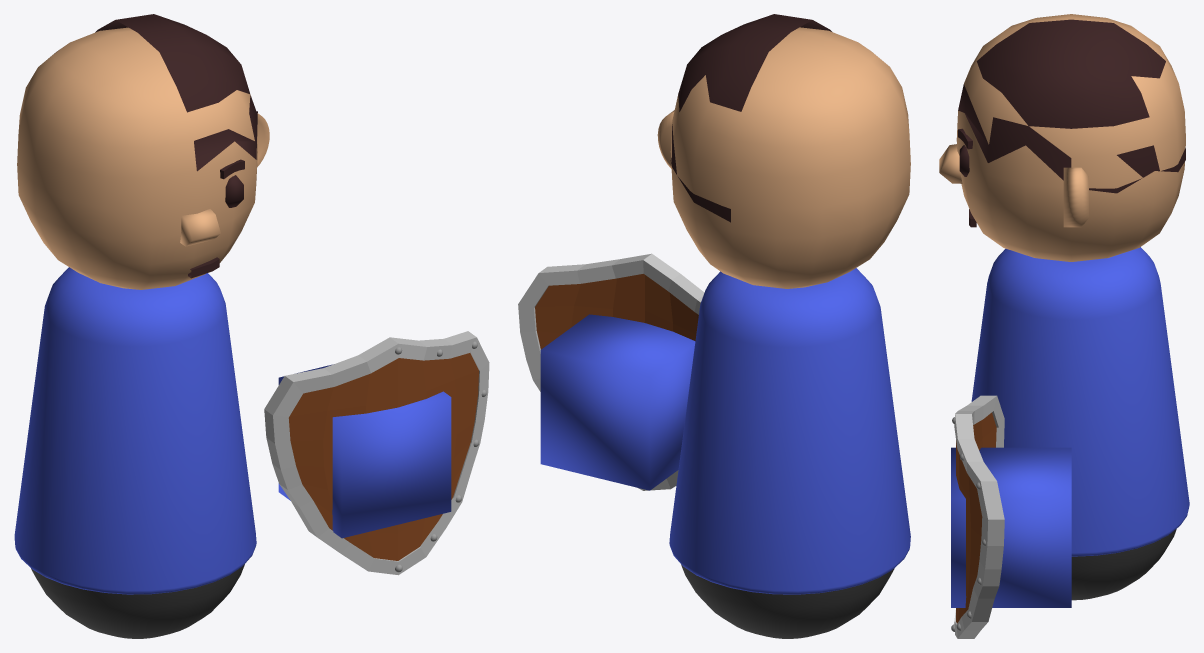
File: mii-shield.glb
3 views of the same model, side by side, from view 1: azimuth 30°, elevation 25°; view 2: azimuth 150°, elevation 25°; view 3: azimuth 270°, elevation 25° (orthographic). The views are drawn at different scales.
Parts seen in each view (by area): view 1: 円, head, hand, 平面.001, 平面, hair, 球, nose; view 2: 円, head, hand, 球, 平面.002, hair, 平面, ear; view 3: 円, head, hair, hand, 平面, 球, 平面.001, ear, nose, 平面.002.
Part boxes in pixels (bbox=[...]): 円: bbox=[14, 267, 256, 594]; head: bbox=[17, 27, 257, 289]; hand: bbox=[278, 364, 451, 538]; 平面.001: bbox=[288, 353, 478, 560]; 平面: bbox=[264, 331, 489, 575]; hair: bbox=[95, 14, 257, 171]; 球: bbox=[31, 564, 244, 638]; nose: bbox=[180, 209, 220, 246]; 円: bbox=[669, 268, 910, 594]; head: bbox=[670, 27, 910, 288]; hand: bbox=[540, 314, 695, 490]; 球: bbox=[681, 564, 894, 638]; 平面.002: bbox=[535, 274, 698, 349]; hair: bbox=[670, 14, 831, 222]; 平面: bbox=[518, 253, 704, 490]; ear: bbox=[657, 110, 674, 168]; 円: bbox=[971, 247, 1189, 556]; head: bbox=[956, 14, 1185, 261]; hair: bbox=[958, 19, 1185, 193]; hand: bbox=[951, 447, 1071, 607]; 平面: bbox=[954, 395, 1004, 638]; 球: bbox=[1071, 529, 1176, 600]; 平面.001: bbox=[956, 440, 982, 623]; ear: bbox=[1063, 167, 1088, 227]; nose: bbox=[939, 144, 962, 183]; 平面.002: bbox=[973, 412, 996, 450].
Bounding box in the file's own units: 1.3 × 1.79 × 0.7128.
